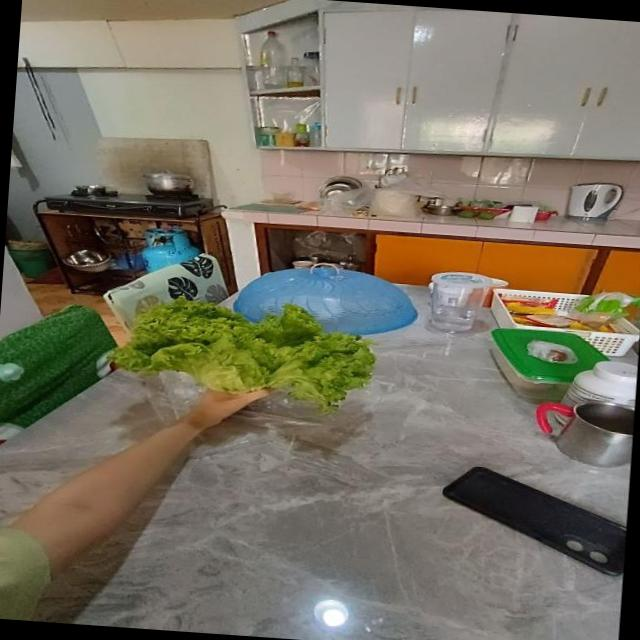Lettuce-Ready-to-Harvest: (111, 300, 374, 409)
